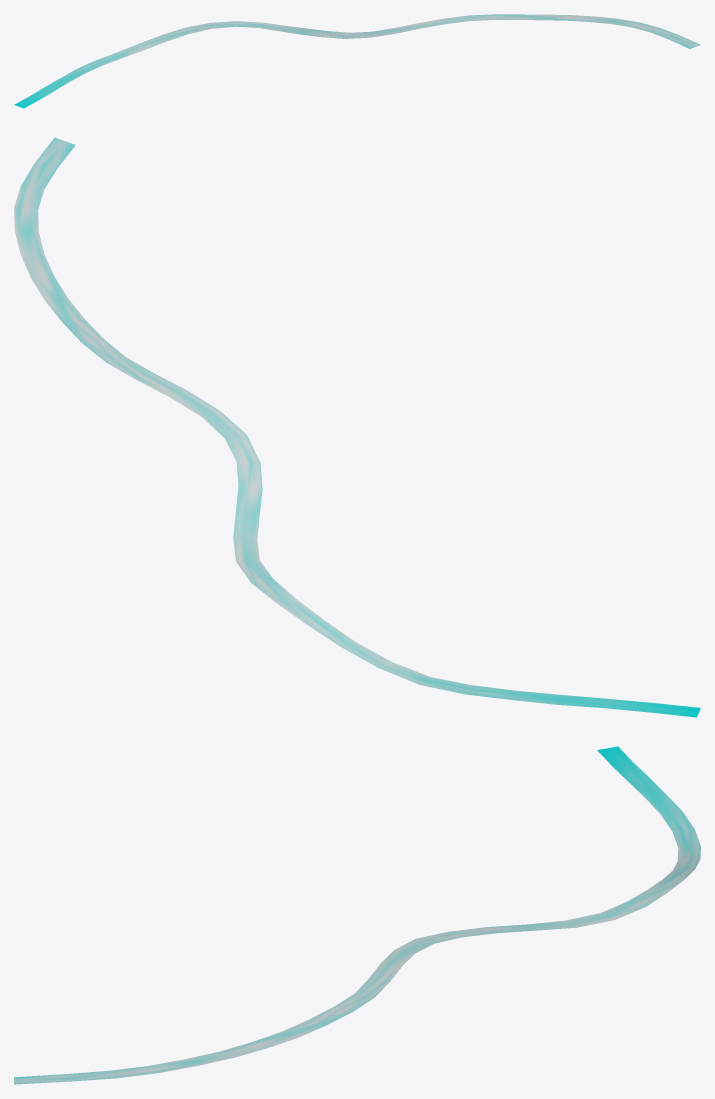
The picture shows the model from 3 angles, top to bottom: view 1: azimuth 30°, elevation 25°; view 2: azimuth 150°, elevation 25°; view 3: azimuth 270°, elevation 25°; orthographic projection. The views are drawn at different scales.
Parts seen in each view (by area): view 1: SpaceCenter_Long3_GenerateRoad_Sand_TireTracks_Width_Mesh_x9; view 2: SpaceCenter_Long3_GenerateRoad_Sand_TireTracks_Width_Mesh_x9; view 3: SpaceCenter_Long3_GenerateRoad_Sand_TireTracks_Width_Mesh_x9.
Part boxes in pixels (x1,y1,x2,y2): SpaceCenter_Long3_GenerateRoad_Sand_TireTracks_Width_Mesh_x9: [14, 14, 700, 108]; SpaceCenter_Long3_GenerateRoad_Sand_TireTracks_Width_Mesh_x9: [14, 137, 700, 717]; SpaceCenter_Long3_GenerateRoad_Sand_TireTracks_Width_Mesh_x9: [14, 746, 700, 1084].
Size of the model in its own units: 1088 by 1661 by 184.
